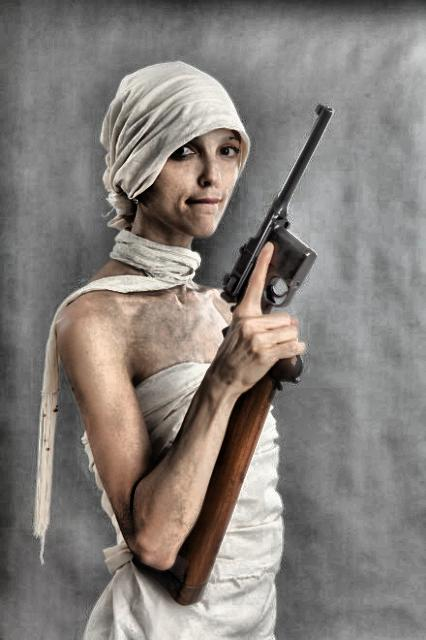pistol: (223, 101, 335, 379)
